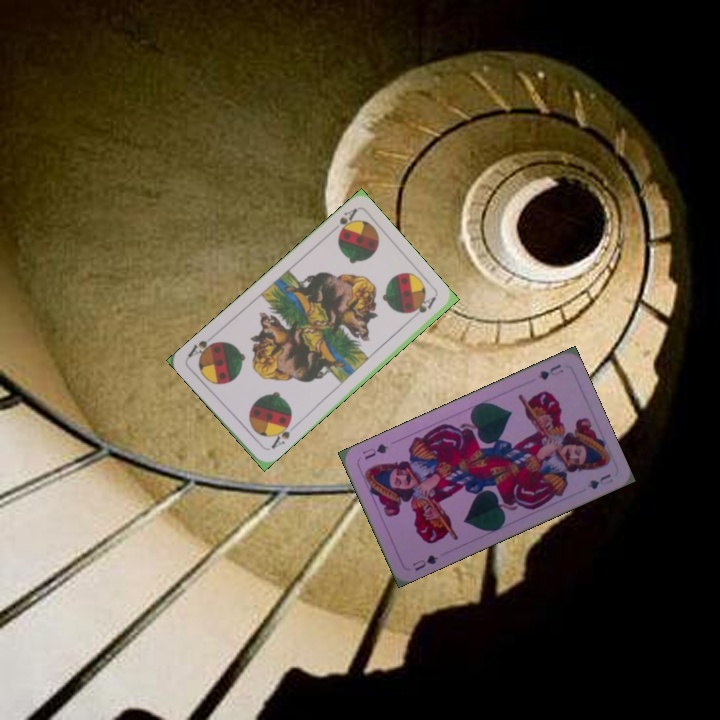GU: (408, 550, 441, 574), (534, 360, 566, 382)
SA: (326, 205, 359, 238), (267, 417, 294, 452)
